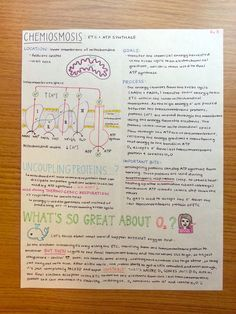page: (22, 30, 221, 288)
